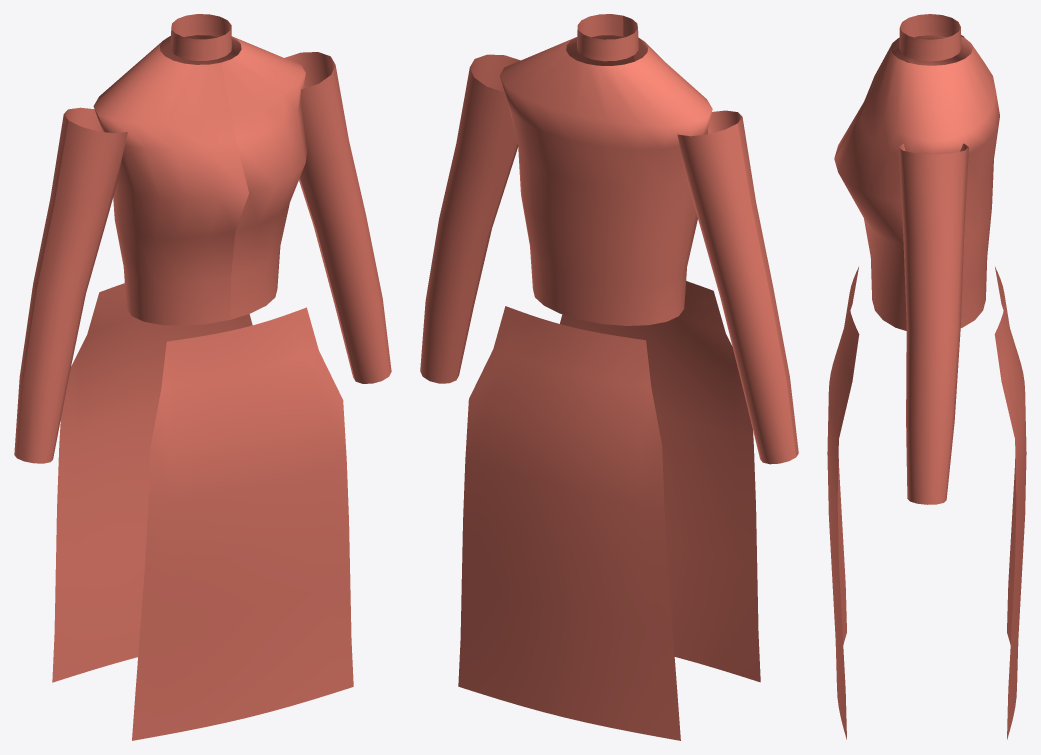
File: aodai_classic_01.glb
3 views of the same model, side by side, from view 1: azimuth 30°, elevation 25°; view 2: azimuth 150°, elevation 25°; view 3: azimuth 270°, elevation 25° (orthographic).
Parts seen in each view (by area): view 1: AoDai_Classic_01_Node; view 2: AoDai_Classic_01_Node; view 3: AoDai_Classic_01_Node.
Part boxes in pixels (x1=…): AoDai_Classic_01_Node: x1=14, y1=14, x2=391, y2=740; AoDai_Classic_01_Node: x1=420, y1=14, x2=798, y2=740; AoDai_Classic_01_Node: x1=827, y1=14, x2=1026, y2=739.
Bounding box in the file's own units: 0.6372 × 1.08 × 0.294.
